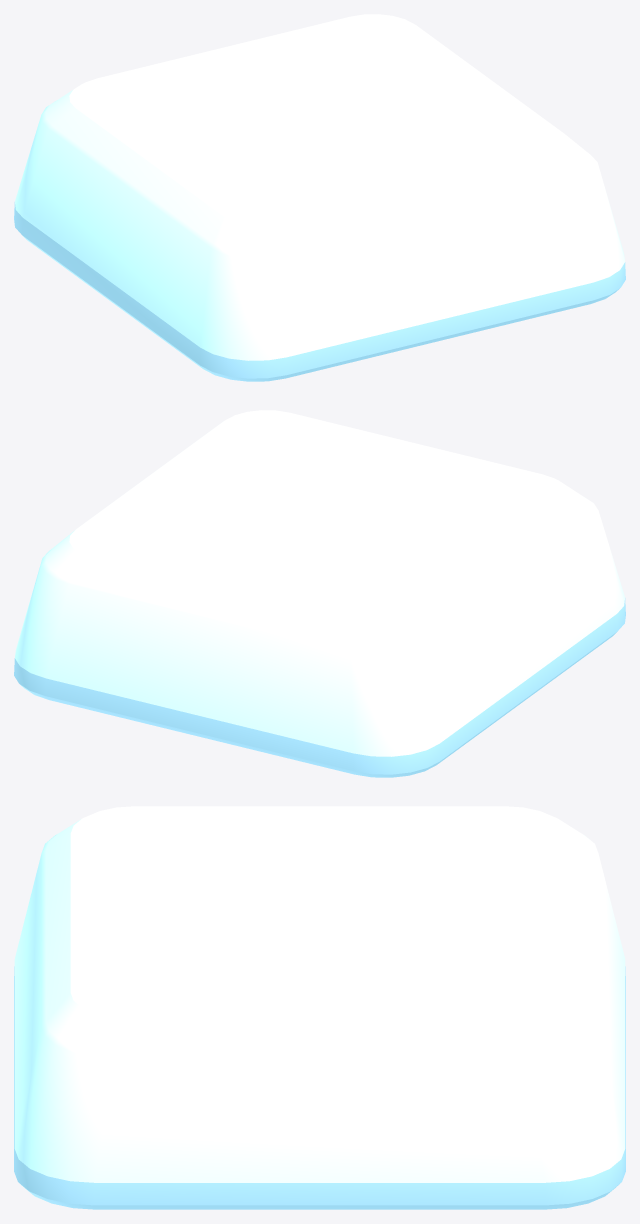
File: props__Keycap.glb
The picture shows the model from 3 angles, top to bottom: view 1: azimuth 30°, elevation 25°; view 2: azimuth 150°, elevation 25°; view 3: azimuth 270°, elevation 25°; orthographic projection. The views are drawn at different scales.
Parts seen in each view (by area): view 1: Keycap.001; view 2: Keycap.001; view 3: Keycap.001.
Part boxes in pixels (<box>): Keycap.001: <box>14,14,625,381</box>; Keycap.001: <box>14,410,625,777</box>; Keycap.001: <box>14,806,625,1209</box>.
Bounding box in the file's own units: 8 × 2.5 × 8.
